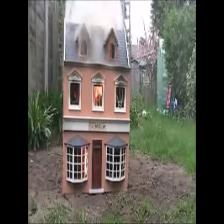fire: (92, 85, 103, 103)
